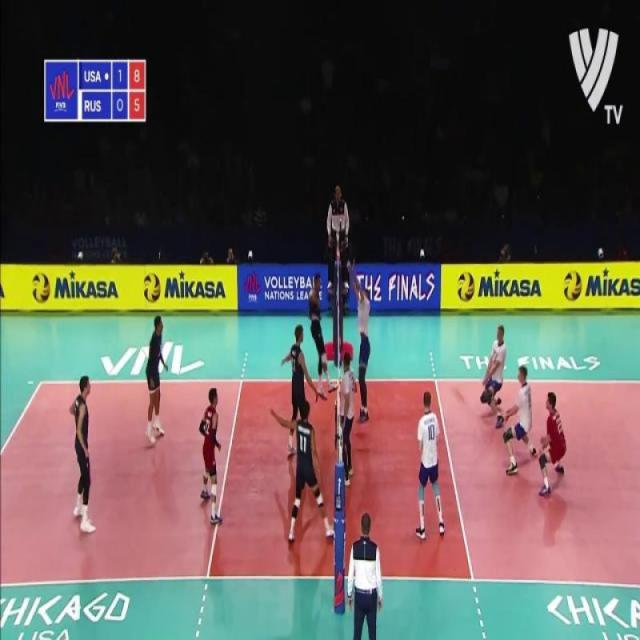volleyball: (31, 269, 50, 305), (142, 270, 162, 304), (562, 272, 583, 302), (457, 272, 475, 302)
